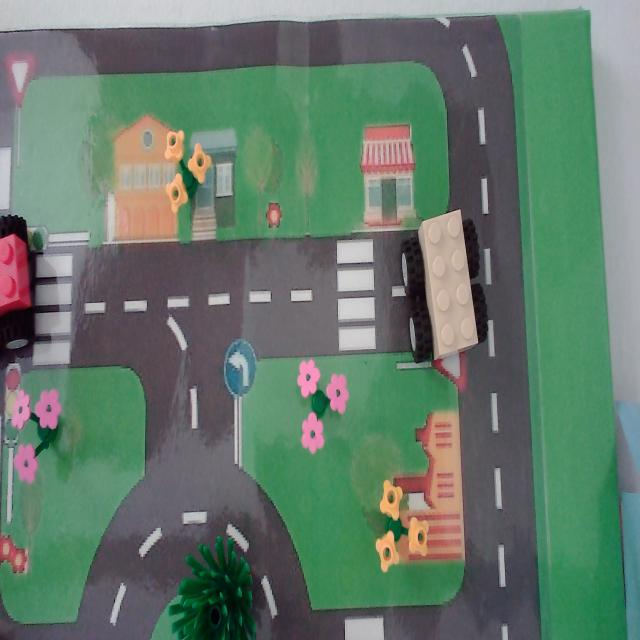Car: (394, 198, 498, 386), (0, 208, 52, 358)
Flower: (3, 371, 83, 492), (146, 116, 227, 231), (360, 468, 441, 577), (287, 348, 361, 466)
Tree: (164, 536, 264, 640)
